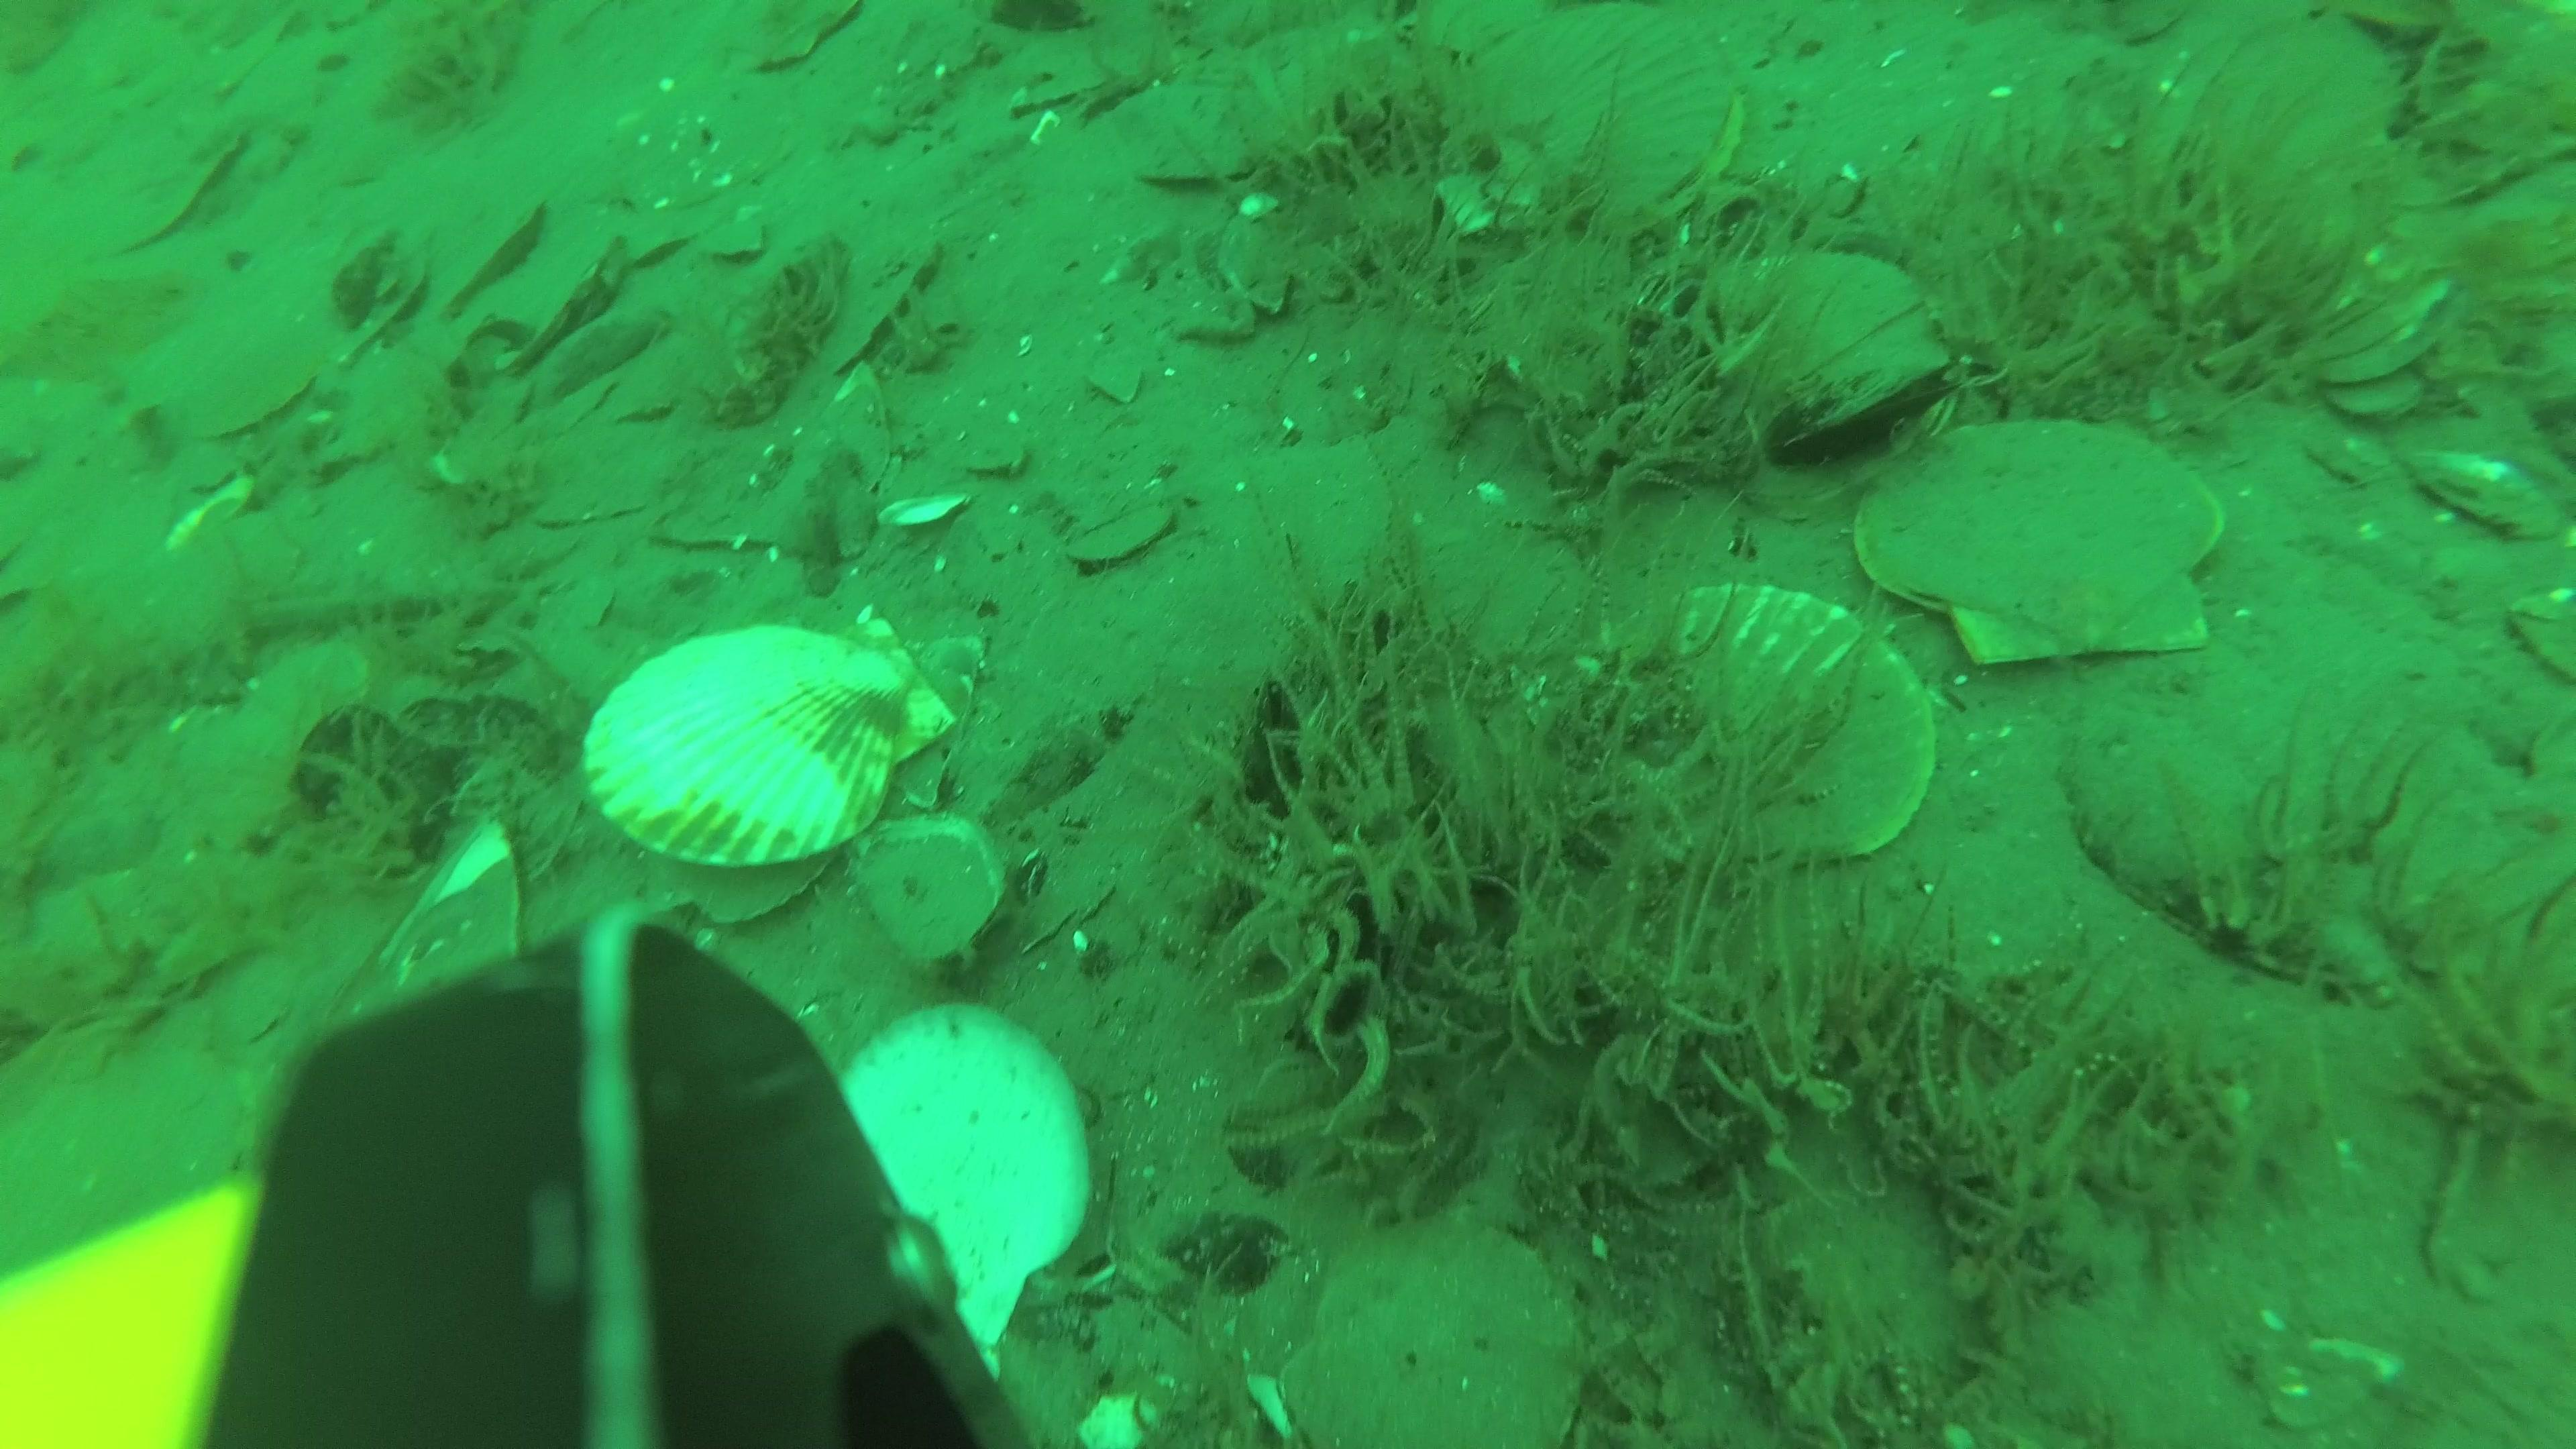scallop: (580, 605, 955, 913), (1596, 593, 1939, 862), (1851, 433, 2229, 669), (828, 1005, 1090, 1345), (1260, 1210, 1598, 1449), (1458, 11, 1759, 230), (1677, 258, 1966, 433), (2155, 21, 2401, 214), (189, 343, 315, 448), (1067, 504, 1194, 577)
